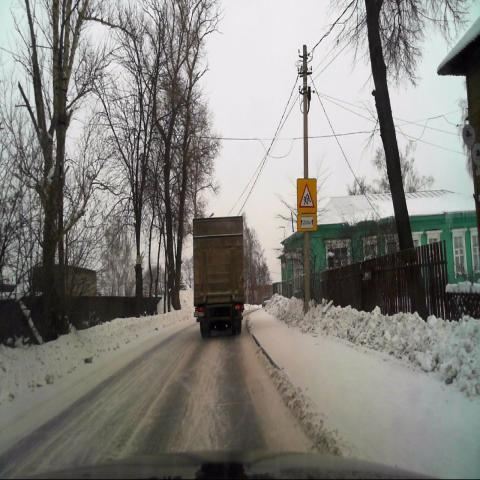8_2_1: (297, 214, 317, 231)
